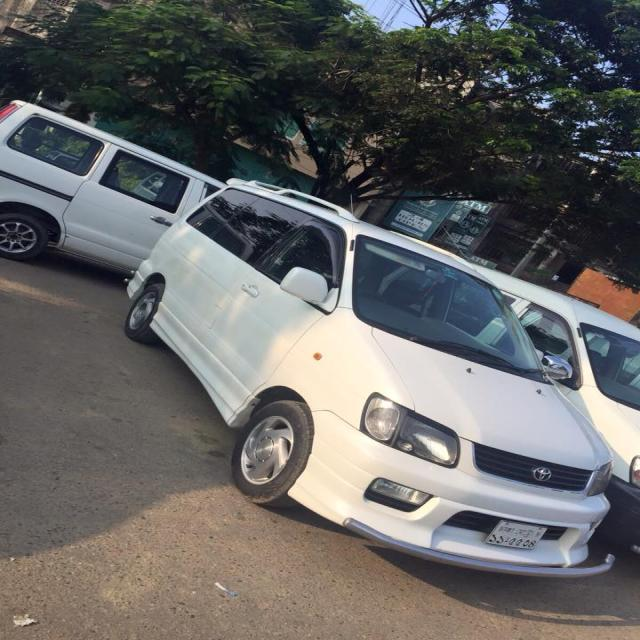numberplate: (483, 519, 548, 550)
